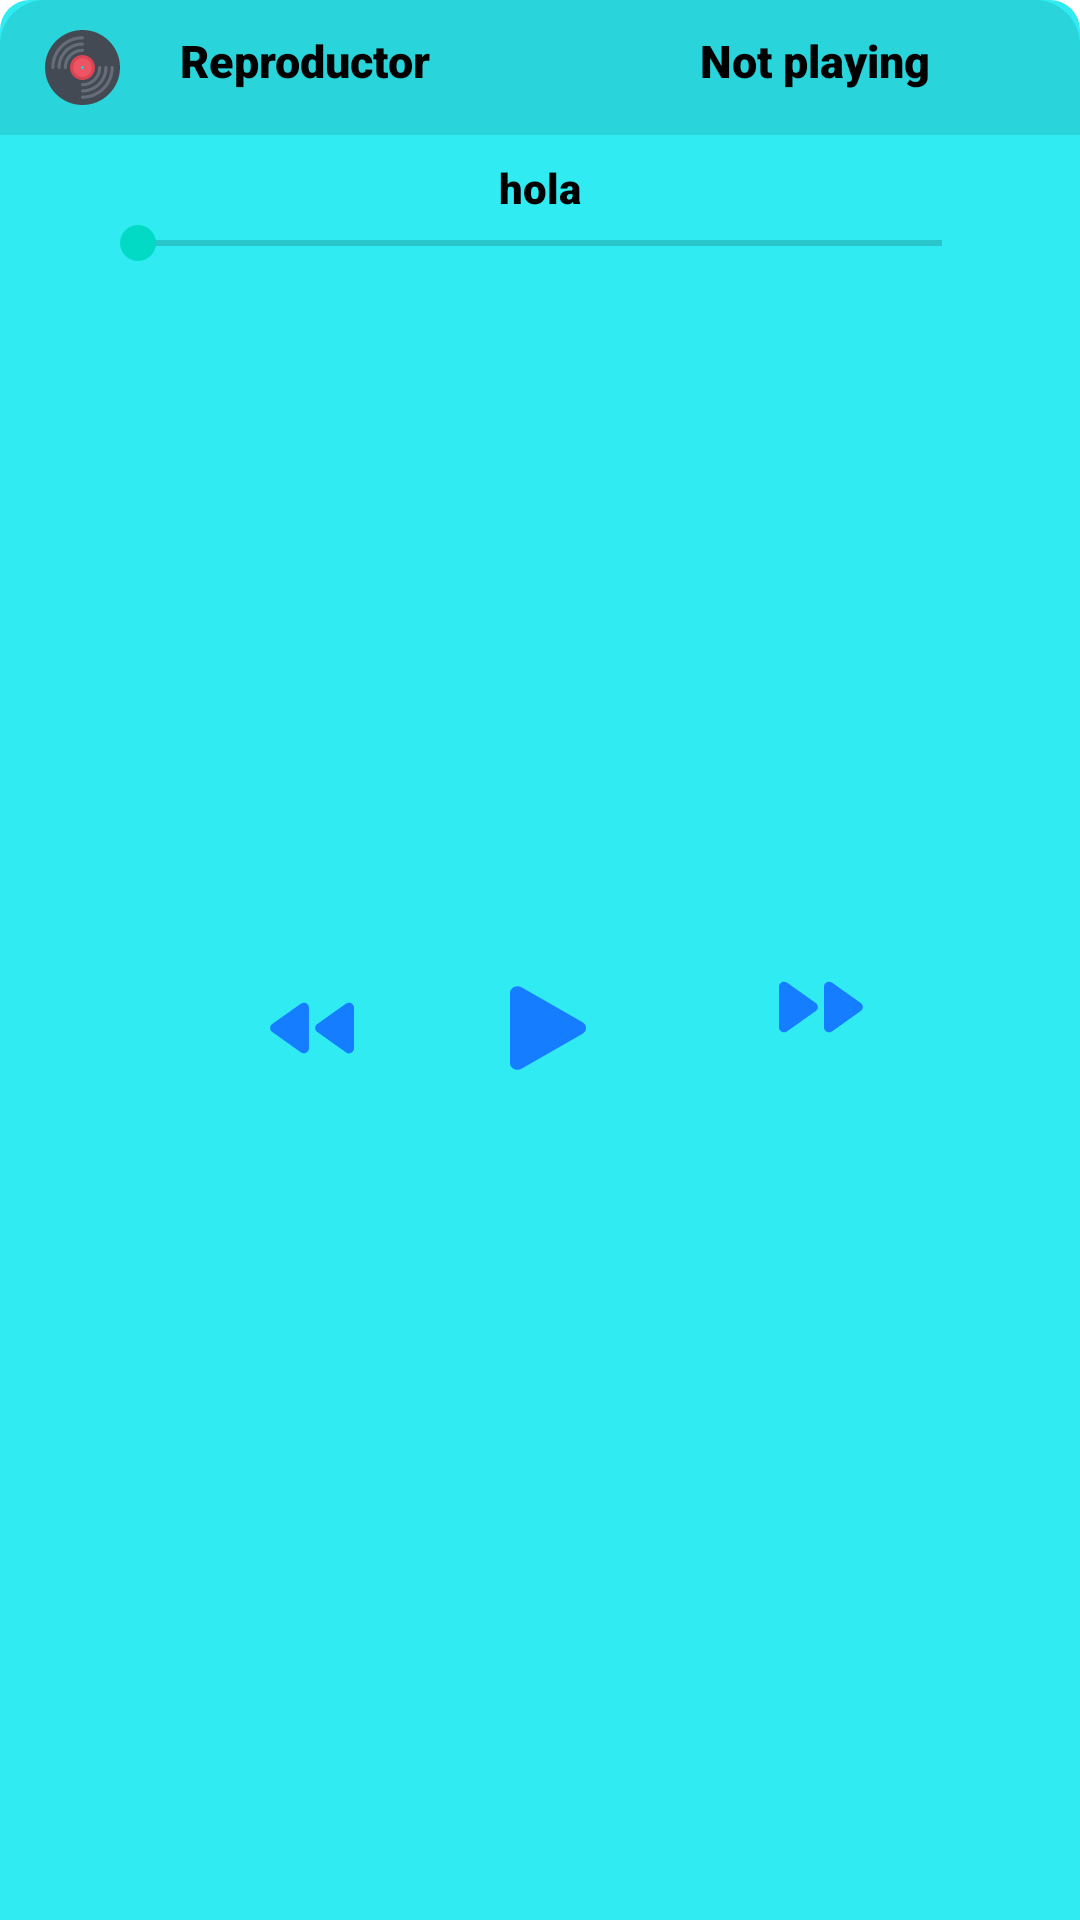

Locate icon controls on the screen. Image size 1080 × 1920, boxes as region(x1, y1, x2, y2).
fast forward: region(779, 981, 863, 1033)
fast rewind: region(270, 1002, 354, 1054)
play arrow: region(510, 986, 586, 1070)
vinyl: region(45, 30, 120, 105)
